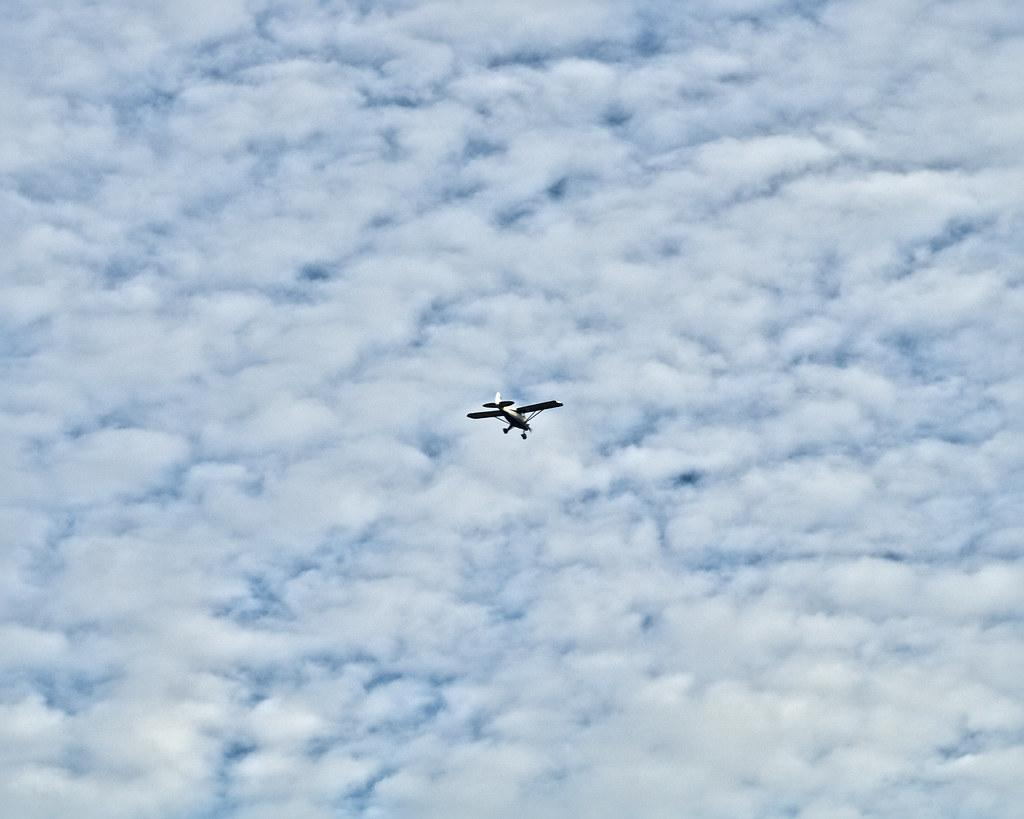plane: (467, 391, 564, 441)
